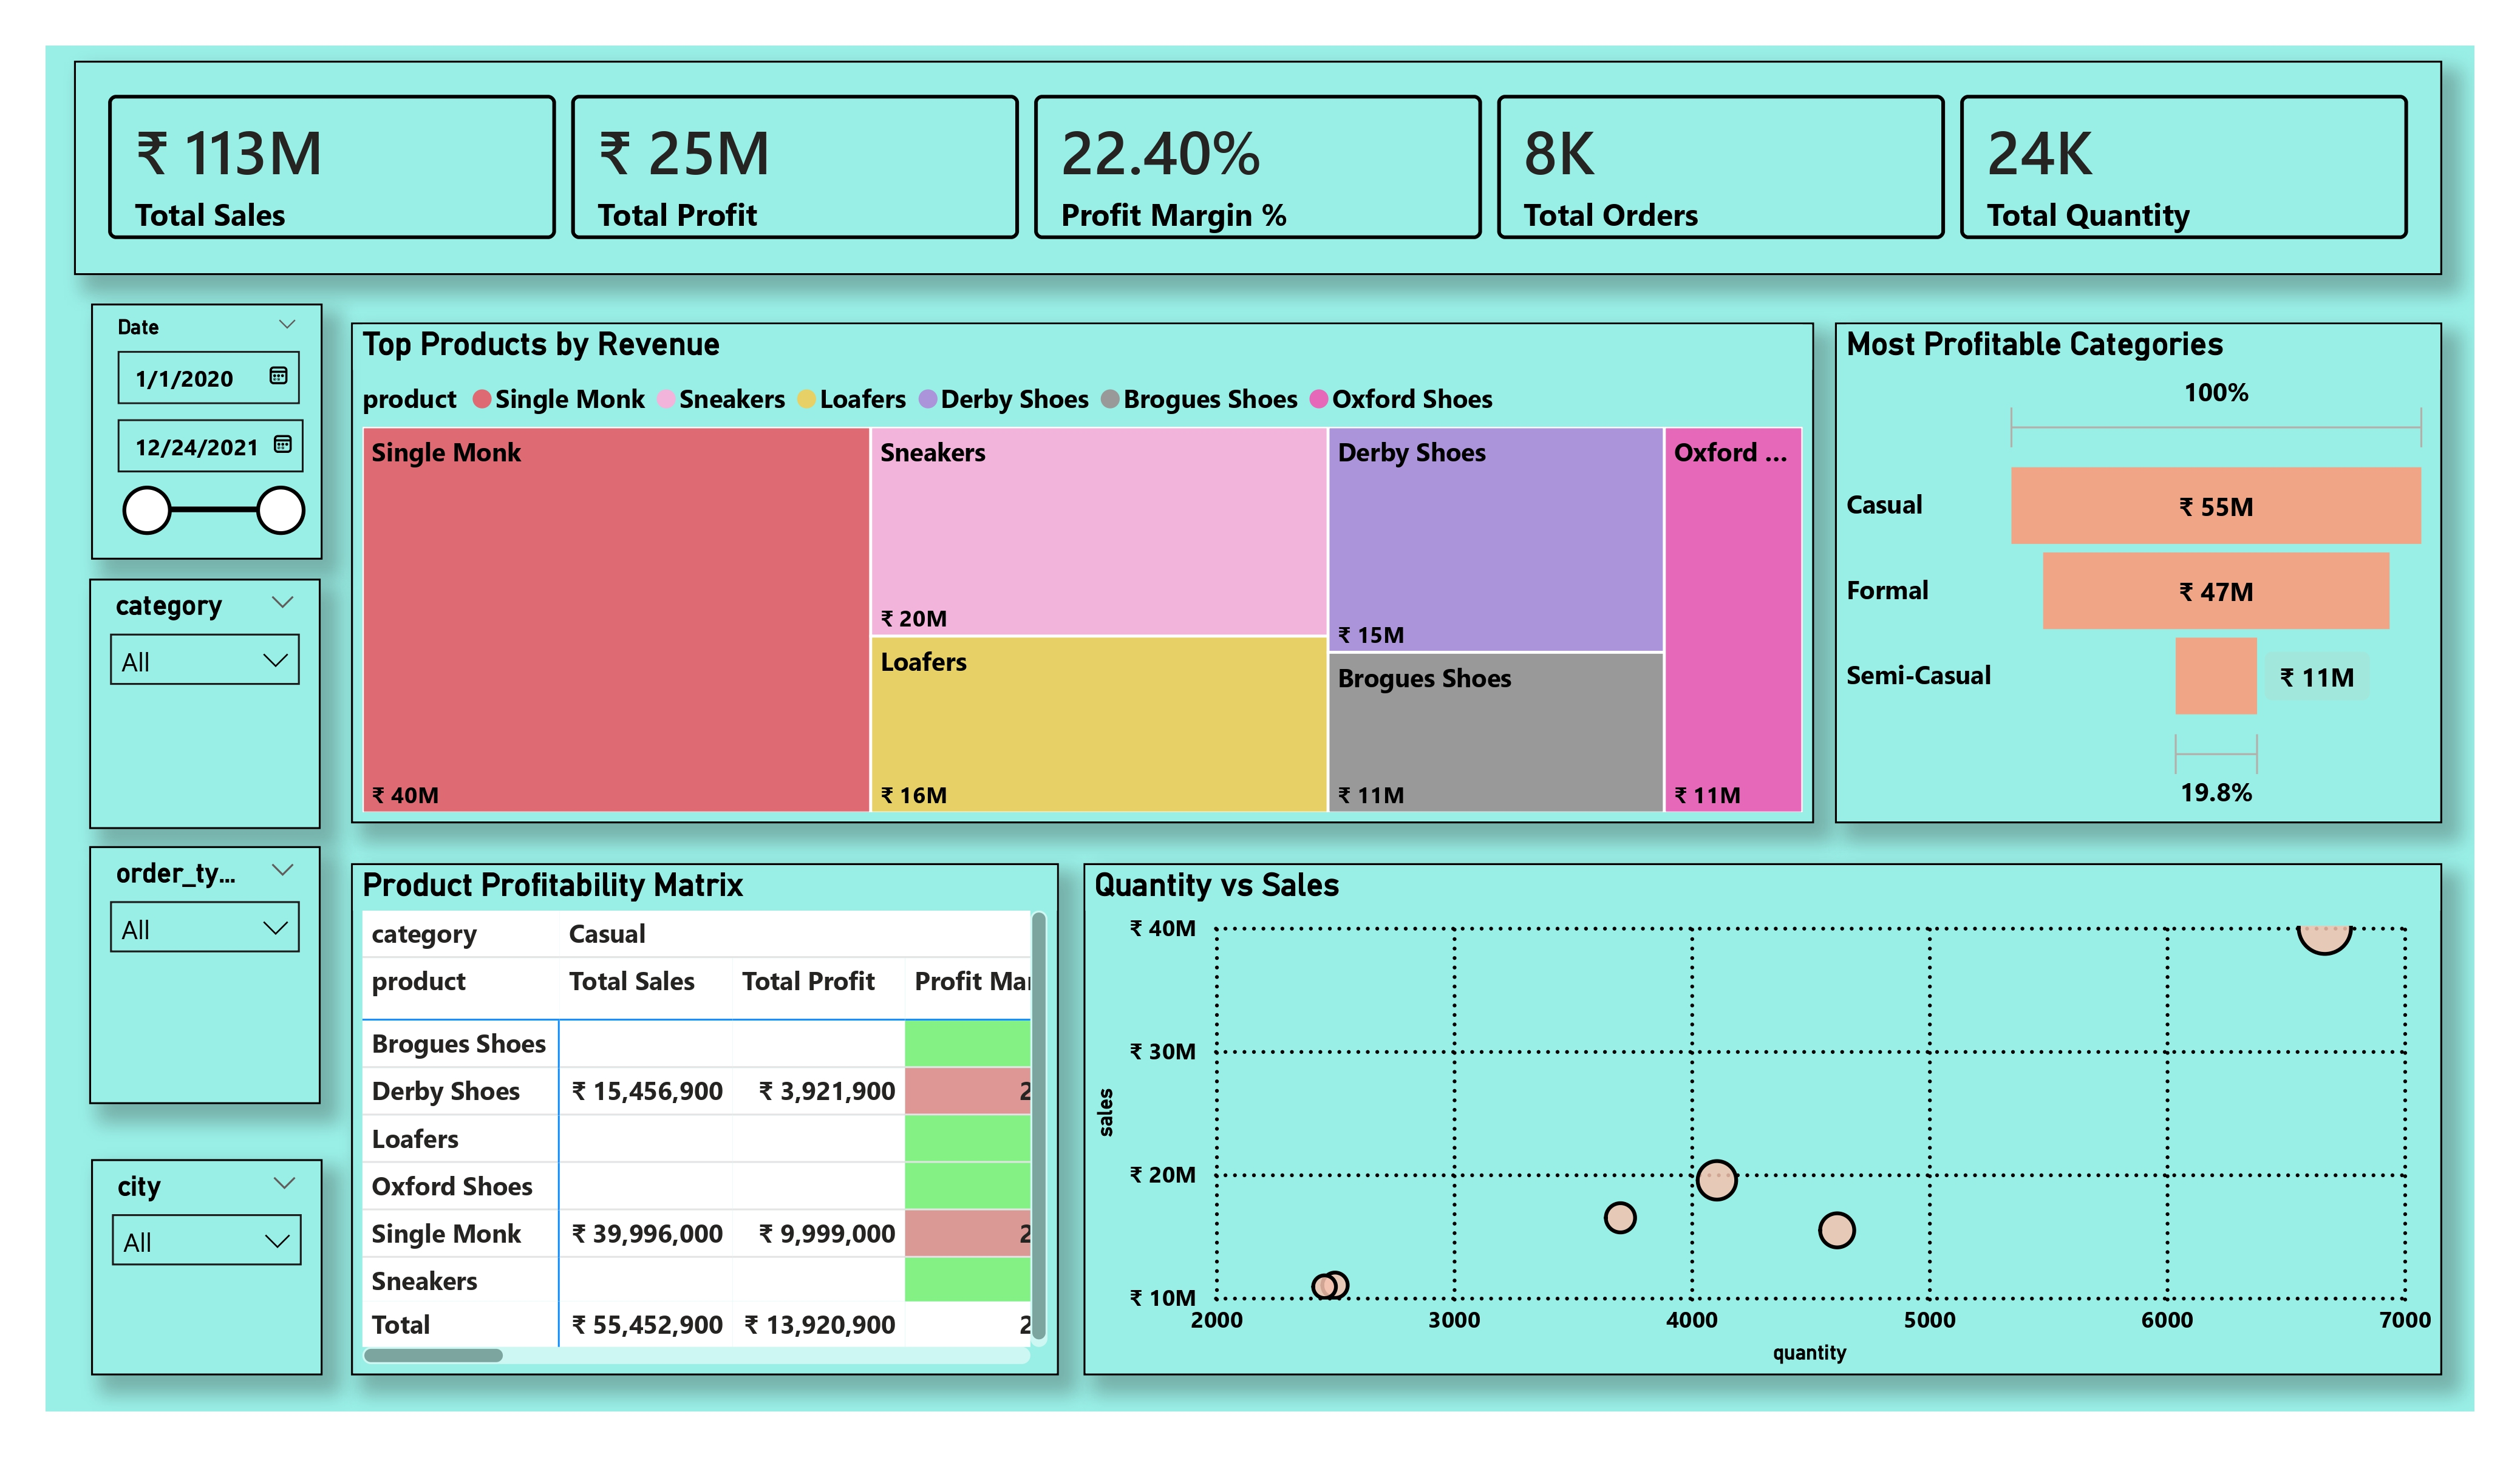

What the dashboard file says about the page in this screenshot:
{"tool":"powerbi","page":{"name":"Product & Category Insights","canvas":[1280,720],"ordinal":2},"visuals":[{"type":"cardVisual","fields":{"Data":["Fact_Sales.Total Sales","Fact_Sales.Total Profit","Fact_Sales.Profit Margin %","Fact_Sales.Total Orders","Fact_Sales.Total Quantity"]},"box":[14.5,8.5,1248,112.6],"z":0},{"type":"treemap","title":"Top Products by Revenue","fields":{"Group":["Dim_Product.product"],"Values":["Fact_Sales.Total Sales"]},"box":[161,146.5,771.1,263.9],"z":1},{"type":"funnel","title":"Most Profitable Categories","fields":{"Category":["Dim_Product.category"],"Y":["Fact_Sales.Total Sales"]},"box":[943,146.5,319.6,263.9],"z":2},{"type":"pivotTable","title":"Product Profitability Matrix","fields":{"Rows":["Dim_Product.product"],"Columns":["Dim_Product.category"],"Values":["Fact_Sales.Total Sales","Fact_Sales.Total Profit","Fact_Sales.Profit Margin %"]},"box":[161,430.9,372.8,269.9],"z":3},{"type":"scatterChart","title":"Quantity vs Sales","fields":{"X":["Sum(Fact_Sales.quantity)"],"Y":["Fact_Sales.Total Sales"],"Size":["Fact_Sales.Total Profit"],"Category":["Dim_Product.product"]},"box":[547.1,430.9,715.4,269.9],"z":4},{"type":"slicer","fields":{"Values":["Dim_Date.order_date"]},"box":[24.2,135.6,122.3,135.6],"z":5},{"type":"slicer","fields":{"Values":["Dim_Product.category"]},"box":[23,280.8,122.3,131.9],"z":6},{"type":"slicer","fields":{"Values":["Fact_Sales.order_type"]},"box":[23,422.5,122.3,135.6],"z":7},{"type":"slicer","fields":{"Values":["Dim_Customer.city"]},"box":[24.2,587.1,122.3,113.8],"z":8}]}

Visuals, with their boxes on the page's 1280x720 design canvas (x1, y1, x2, y2). These are canvas units, not pixel positions in the 2520x1457 screenshot, which may show the page scaled, cropped or inside an application window:
cardVisual - Fact_Sales.Total Sales x Fact_Sales.Total Profit: 14 8 1262 121
"Top Products by Revenue" treemap: 161 146 932 410
"Most Profitable Categories" funnel: 943 146 1263 410
"Product Profitability Matrix" pivotTable: 161 431 534 701
"Quantity vs Sales" scatterChart: 547 431 1262 701
slicer - Dim_Date.order_date: 24 136 146 271
slicer - Dim_Product.category: 23 281 145 413
slicer - Fact_Sales.order_type: 23 422 145 558
slicer - Dim_Customer.city: 24 587 146 701
